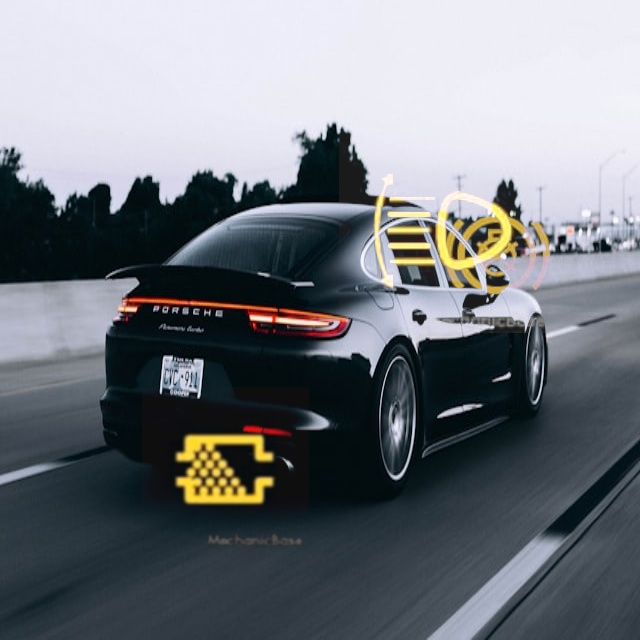symbol: (339, 123, 549, 333), (142, 387, 309, 554), (421, 180, 573, 332)
